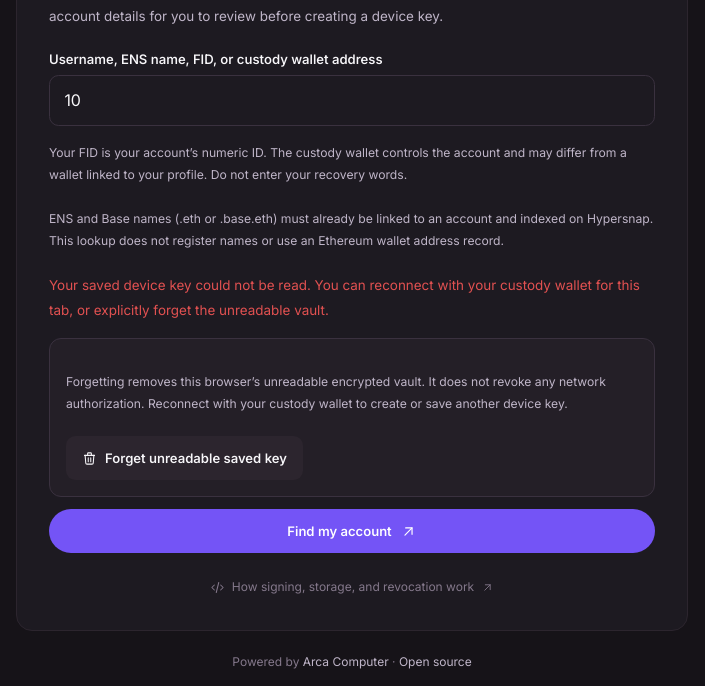
Test: explicit passkey device storage UI › offers explicit local recovery for an unreadable saved key while keeping wallet reconnection available
(page scrolled)
Expected: the message shows "saved device key could not be read", [49,277,640,318]
Expected: the button "Find my account" is enabled, [49,510,655,554]
Click the button "Forget unreadable saved key".
click(184, 458)  # box [66,436,303,480]
(page scrolled)
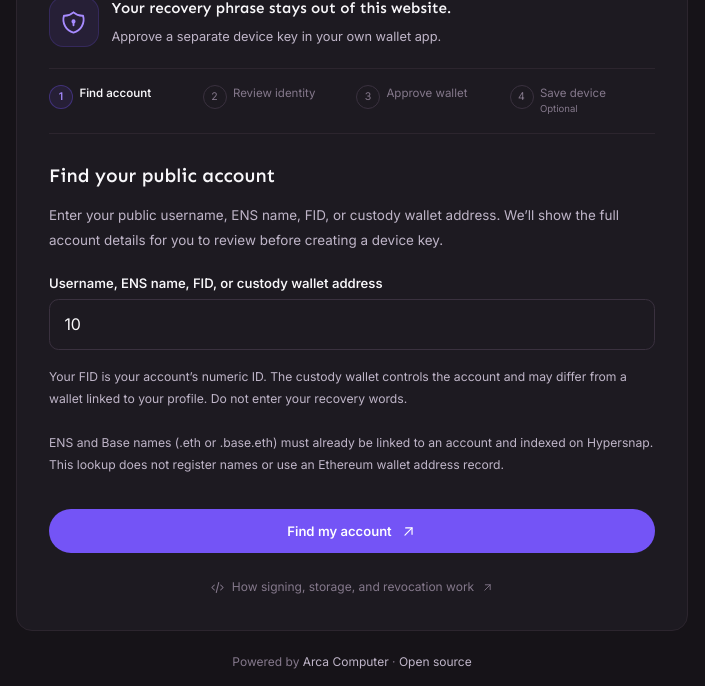
Now the message is gone
